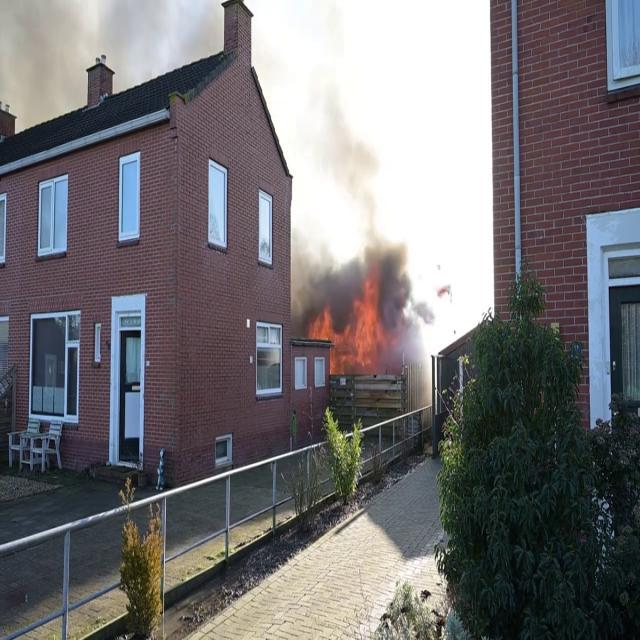Fire: (304, 288, 388, 372)
Smoke: (288, 19, 432, 339), (0, 0, 82, 109)
